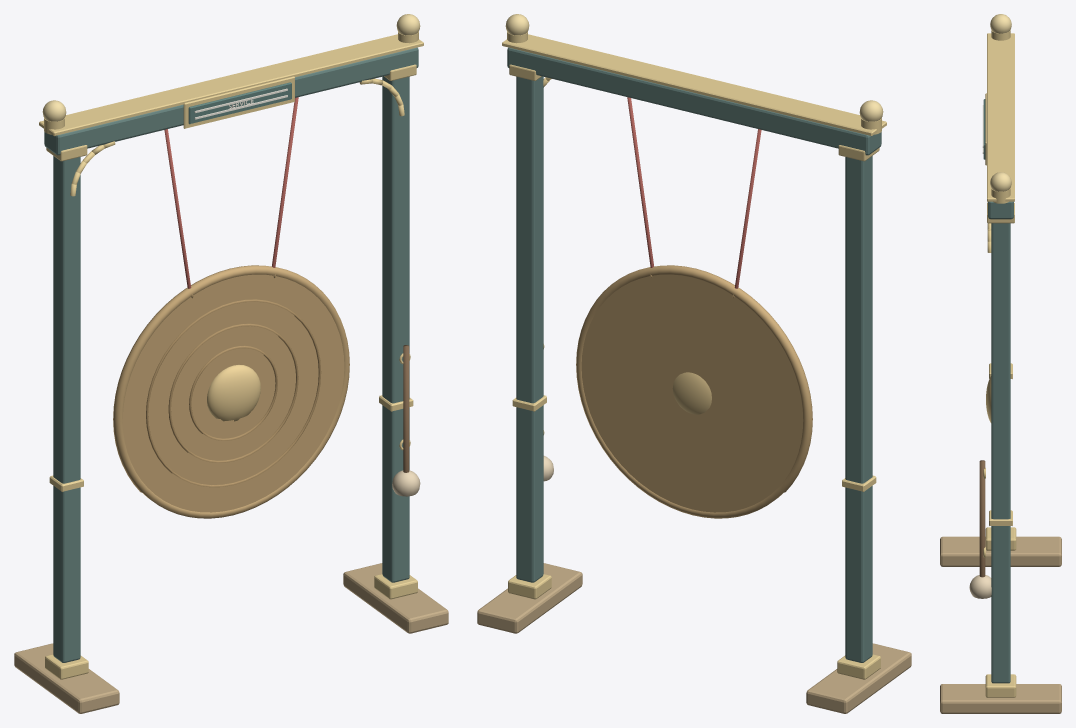
Rendered from bell.glb.
3 renders of one model, left to right at view 1: azimuth 30°, elevation 25°; view 2: azimuth 150°, elevation 25°; view 3: azimuth 270°, elevation 25°, orthographic. The views are drawn at different scales.
Visible parts, largest first — view 1: bell_gong_bronze, bell_green_lacquer, bell_brass, bell_bronze, bell_gong_rings, bell_gong_boss, bell_enamel_plaque, bell_gong_cord, bell_mallet_handle, bell_brass_polished; view 2: bell_gong_bronze, bell_green_lacquer, bell_brass, bell_bronze, bell_gong_cord, bell_gong_boss, bell_brass_polished; view 3: bell_green_lacquer, bell_brass, bell_bronze, bell_mallet_handle, bell_brass_polished, bell_mallet_felt, bell_gong_boss.
Part boxes in pixels (left/top/right/bottom): bell_gong_bronze: left=113, top=265, right=349, bottom=518; bell_green_lacquer: left=44, top=47, right=418, bottom=662; bell_brass: left=39, top=31, right=423, bottom=679; bell_bronze: left=14, top=563, right=448, bottom=713; bell_gong_rings: left=146, top=299, right=321, bottom=487; bell_gong_boss: left=207, top=365, right=260, bottom=421; bell_enamel_plaque: left=188, top=82, right=291, bottom=124; bell_gong_cord: left=164, top=97, right=298, bottom=288; bell_mallet_handle: left=403, top=345, right=409, bottom=472; bell_brass_polished: left=42, top=14, right=420, bottom=121; bell_gong_bronze: left=576, top=265, right=812, bottom=518; bell_green_lacquer: left=507, top=47, right=881, bottom=662; bell_brass: left=502, top=31, right=886, bottom=679; bell_bronze: left=477, top=563, right=911, bottom=713; bell_gong_cord: left=627, top=97, right=761, bottom=288; bell_gong_boss: left=672, top=372, right=711, bottom=414; bell_brass_polished: left=505, top=14, right=883, bottom=121; bell_green_lacquer: left=988, top=201, right=1013, bottom=683; bell_brass: left=983, top=30, right=1016, bottom=697; bell_bronze: left=940, top=536, right=1061, bottom=713; bell_mallet_handle: left=979, top=460, right=985, bottom=577; bell_brass_polished: left=990, top=14, right=1011, bottom=191; bell_mallet_felt: left=969, top=575, right=991, bottom=598; bell_gong_boss: left=986, top=376, right=991, bottom=422.
Bounding box in the file's own units: 1.82 × 2.73 × 0.56.
